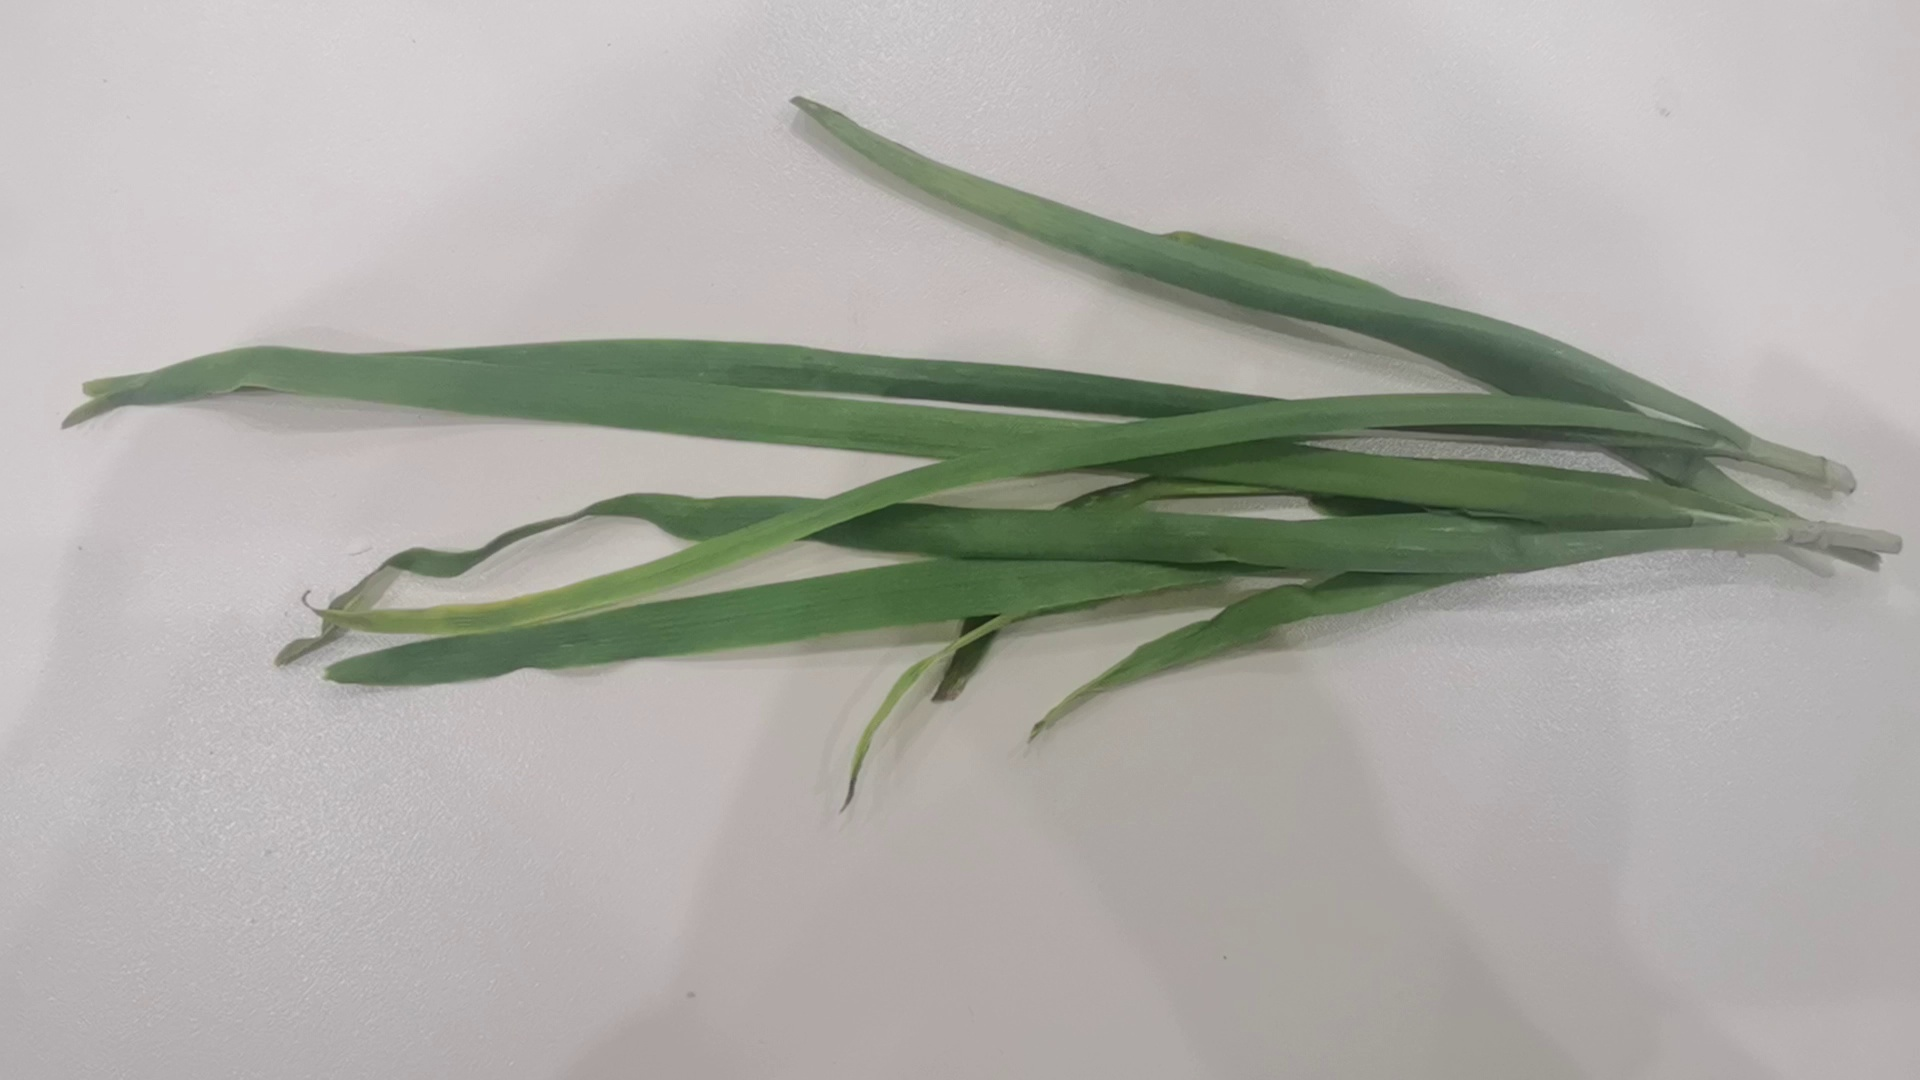chives: (38, 88, 1920, 796)
